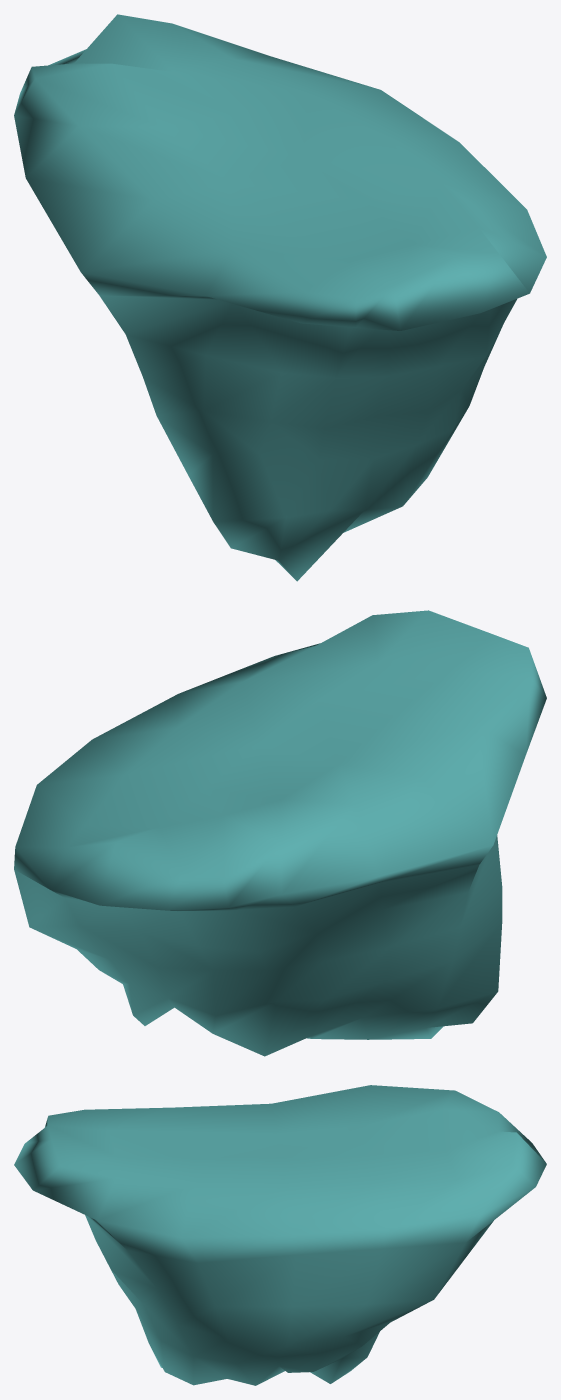
The model's file is baseplat.fbx.
3 views of the same model, one above another, from view 1: azimuth 30°, elevation 25°; view 2: azimuth 150°, elevation 25°; view 3: azimuth 270°, elevation 25° (orthographic). The views are drawn at different scales.
Visible parts, largest first — view 1: pillarbase_low; view 2: pillarbase_low; view 3: pillarbase_low.
Boxes of the visible parts, x1,y1,x2,y2 form: pillarbase_low: (14,14,546,581); pillarbase_low: (14,610,546,1056); pillarbase_low: (14,1085,546,1385).
Size of the model in its own units: 23.54 by 20.79 by 38.33.
